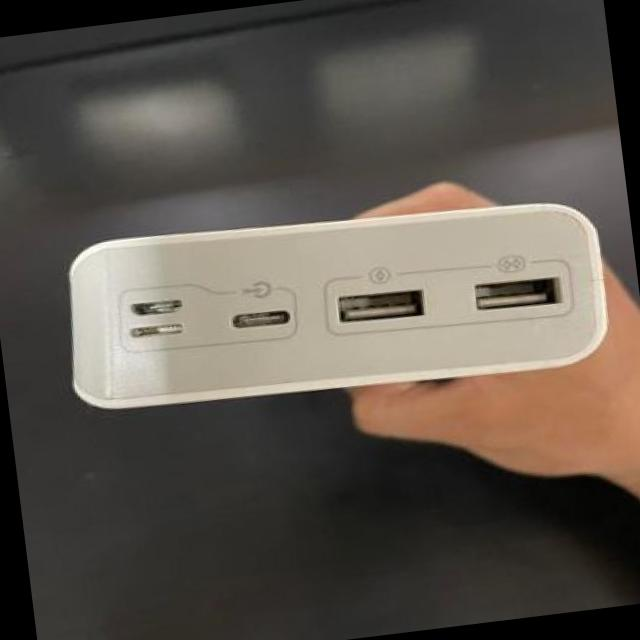power_bank: (48, 175, 626, 432)
